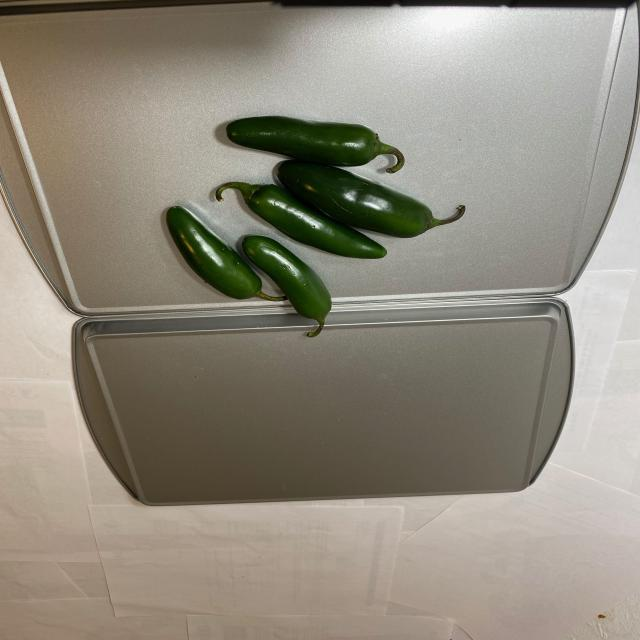chilli: (168, 99, 454, 337)
